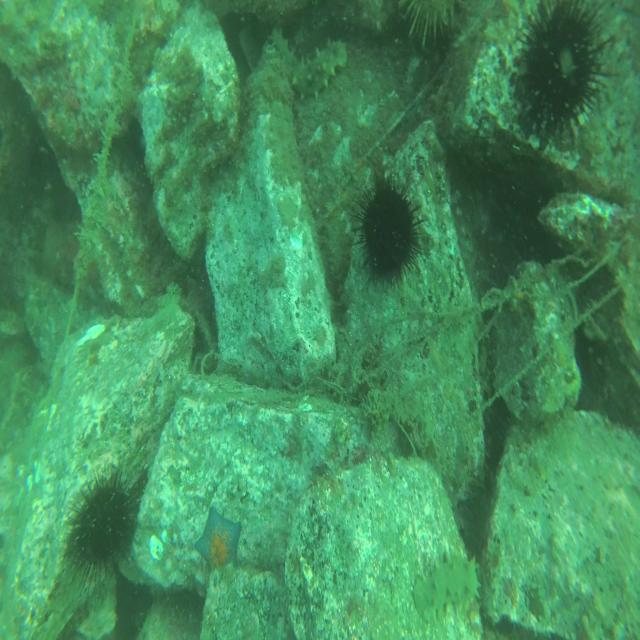echinus: (510, 3, 620, 157), (344, 157, 430, 305), (63, 469, 147, 602), (396, 0, 463, 51)
holothurian: (410, 544, 483, 620), (292, 36, 350, 103), (267, 28, 297, 78)
starfish: (190, 507, 245, 579)
